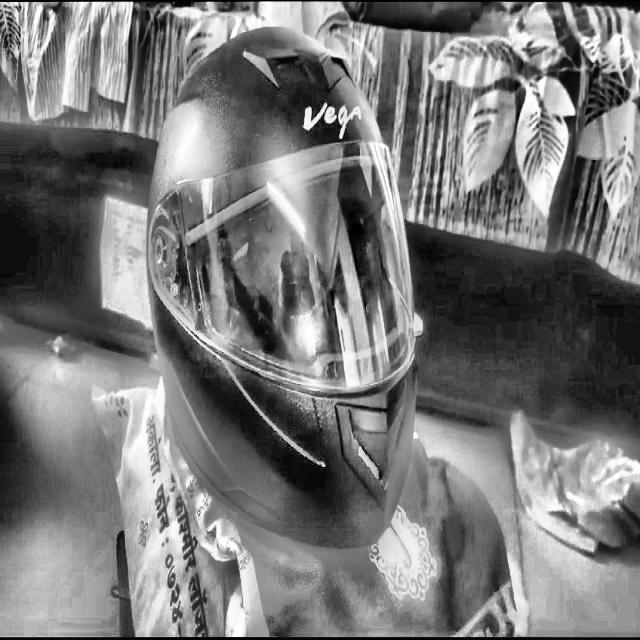Helmet: (144, 35, 418, 549)
